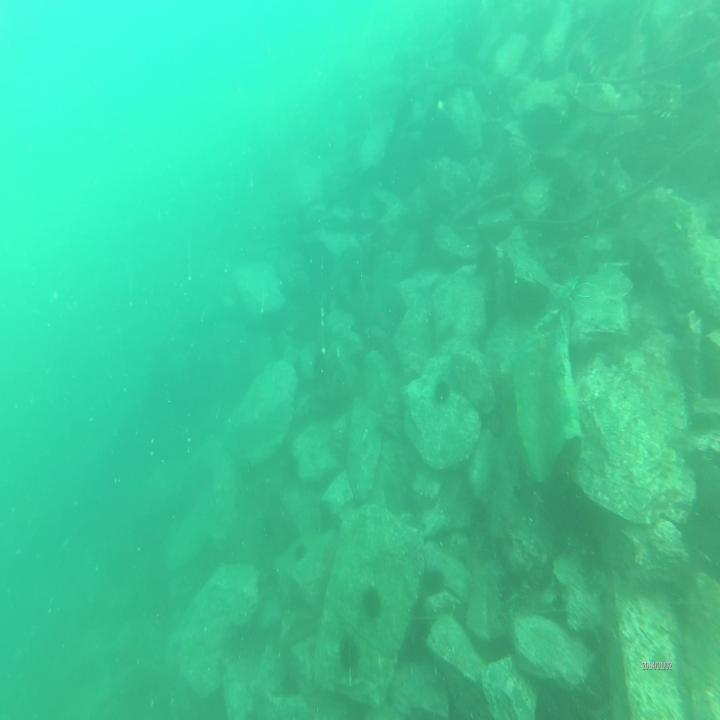echinus: (359, 580, 381, 624), (336, 635, 359, 676), (602, 332, 625, 368), (531, 49, 554, 78), (421, 562, 443, 592), (432, 380, 451, 410), (290, 544, 308, 568)
holothurian: (544, 274, 579, 318)
